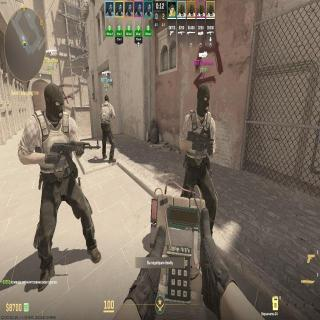T-Body: (29, 86, 96, 268), (97, 95, 121, 167)
T-Head: (41, 87, 67, 118), (196, 83, 211, 113), (103, 96, 111, 105)
